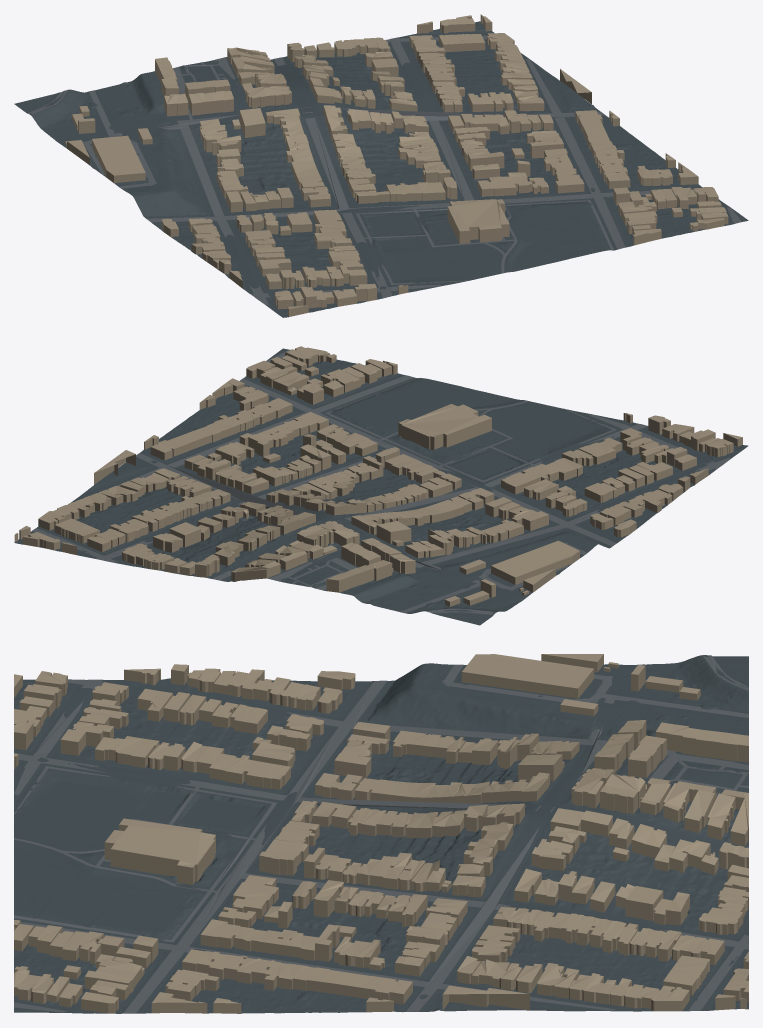
File: epsg26910-1437-10874.lod0.glb
3 views of the same model, one above another, from view 1: azimuth 30°, elevation 25°; view 2: azimuth 150°, elevation 25°; view 3: azimuth 270°, elevation 25° (orthographic). The views are drawn at different scales.
Visible parts, largest first — view 1: epsg26910-1437-10874-lod0; view 2: epsg26910-1437-10874-lod0; view 3: epsg26910-1437-10874-lod0.
Part boxes in pixels (x1,y1,x2,y2): epsg26910-1437-10874-lod0: (14, 14, 748, 317); epsg26910-1437-10874-lod0: (14, 346, 748, 625); epsg26910-1437-10874-lod0: (14, 654, 748, 1013).
Size of the model in its own units: 384 by 35.48 by 384.
